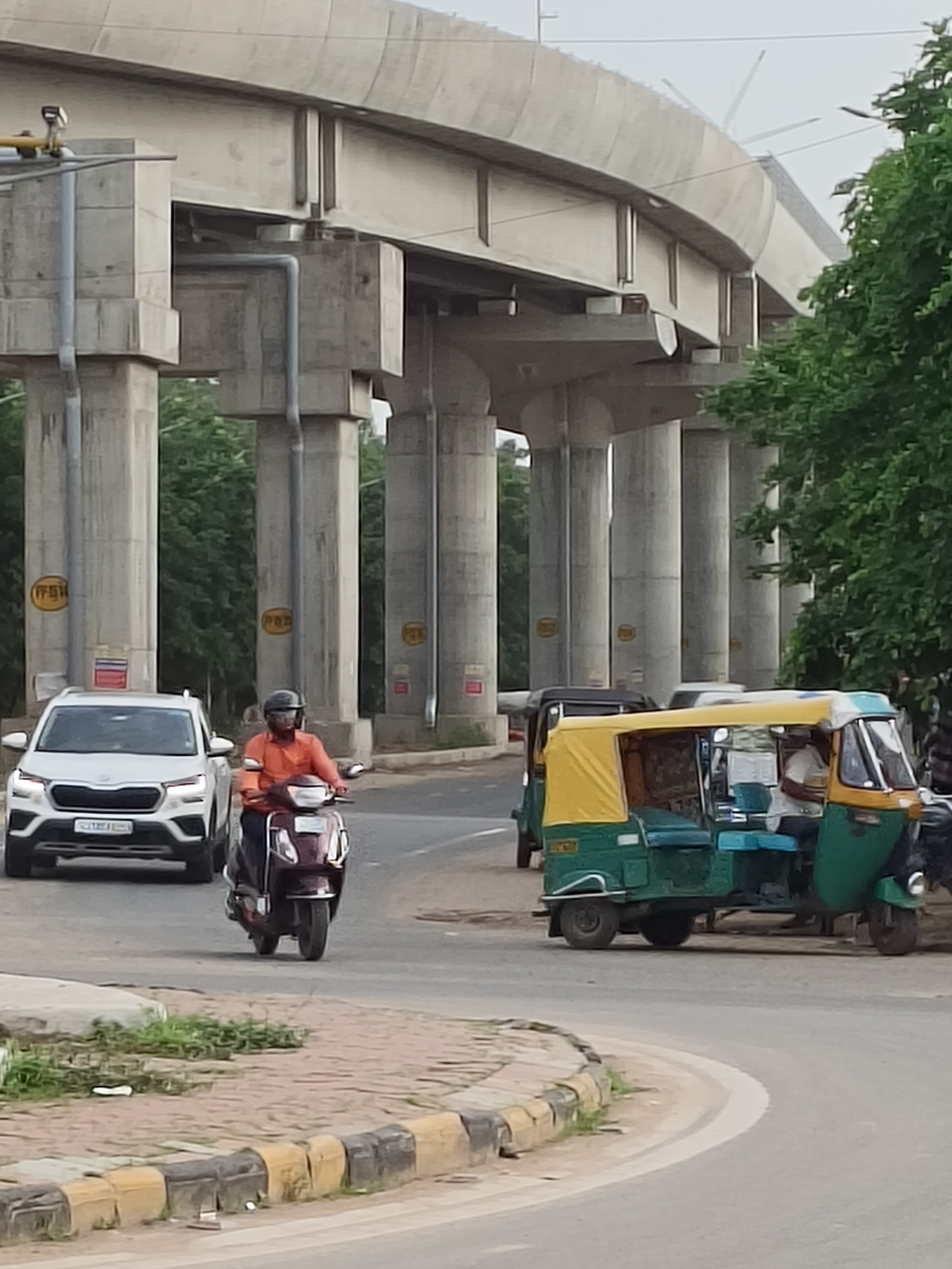BikeWithRider: (218, 688, 366, 967)
Helmet: (259, 688, 305, 737)
